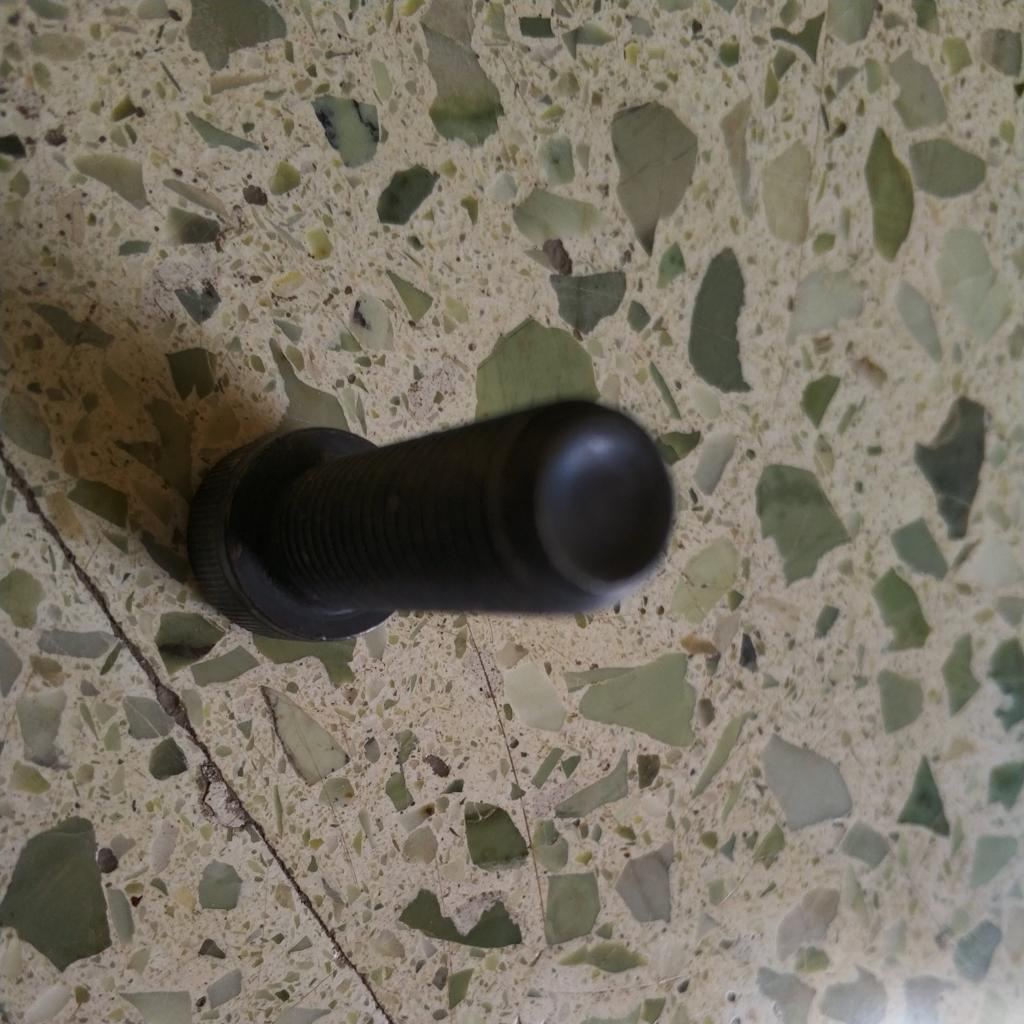screwtype1black: (182, 412, 670, 651)
